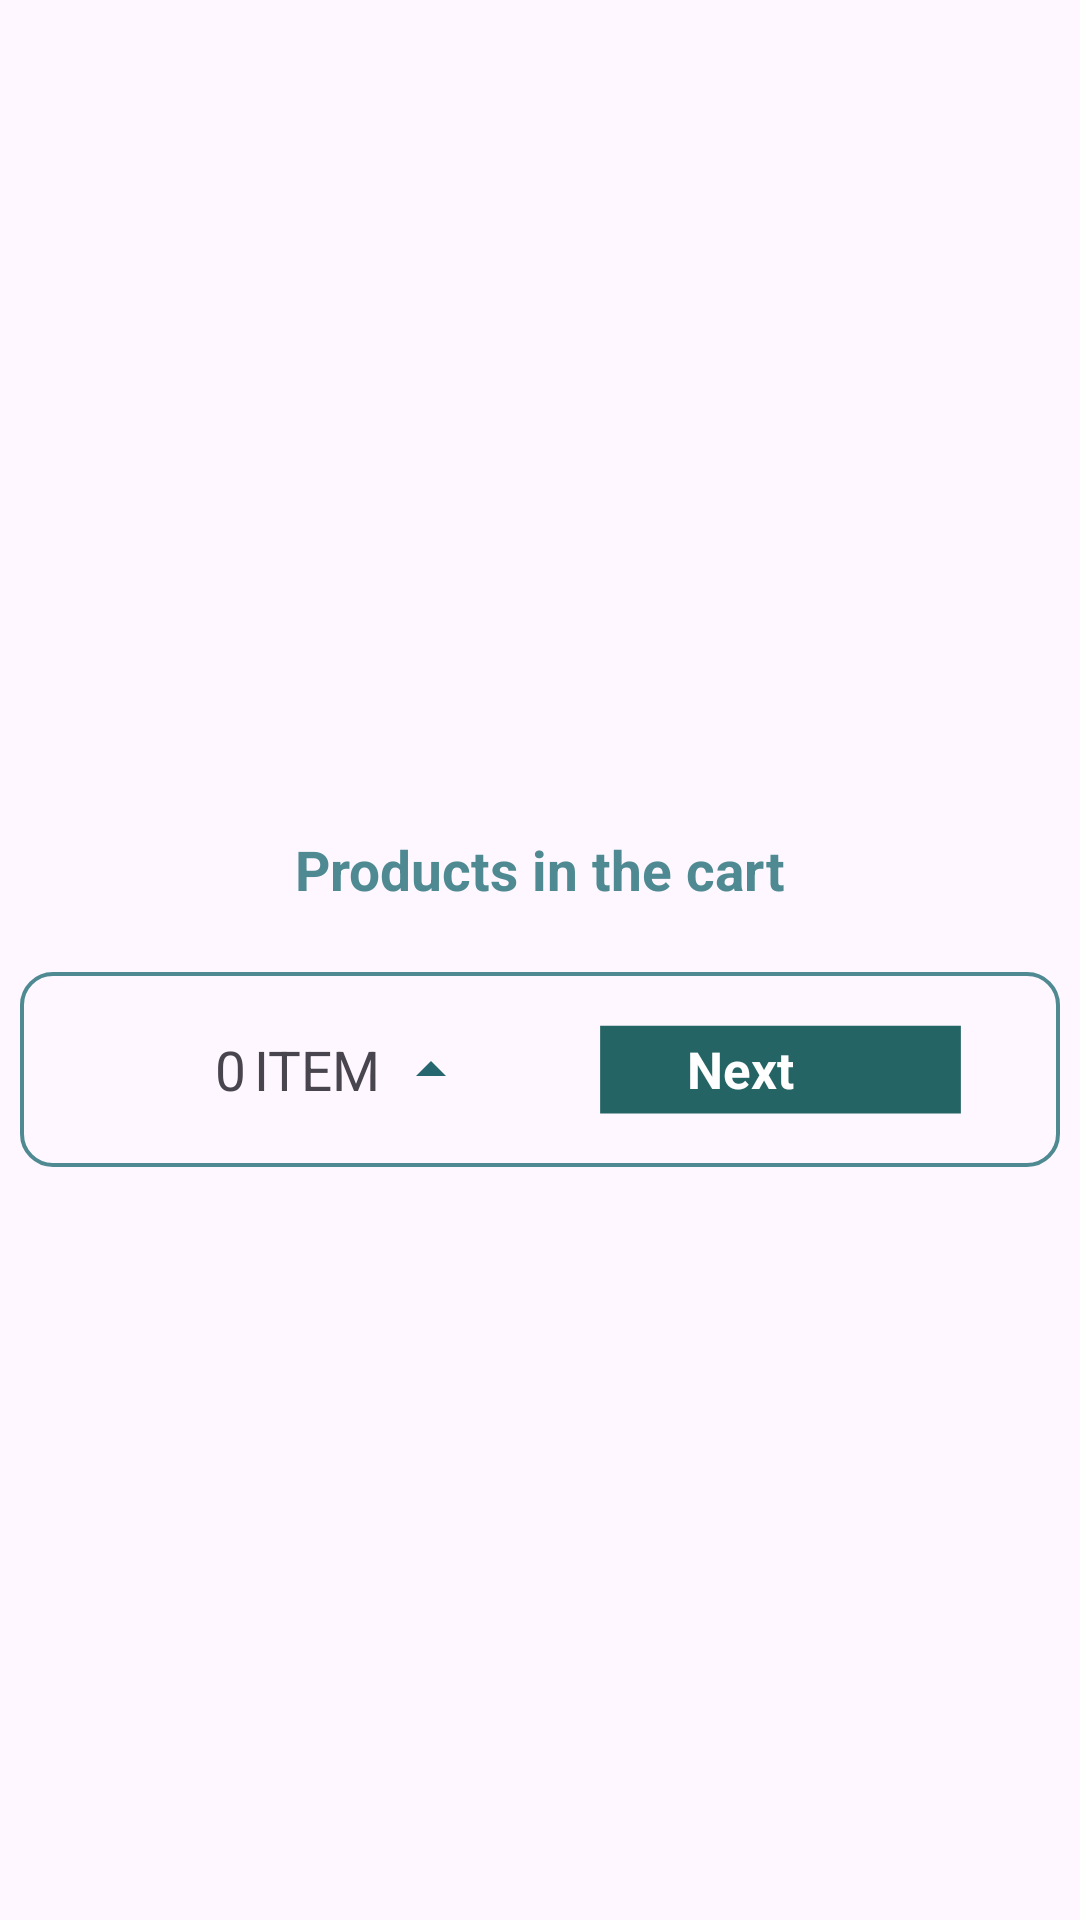

Where to tap for icons on this 1080*1920 app screen, as (x,y):
arrow drop up: (431,1068)
